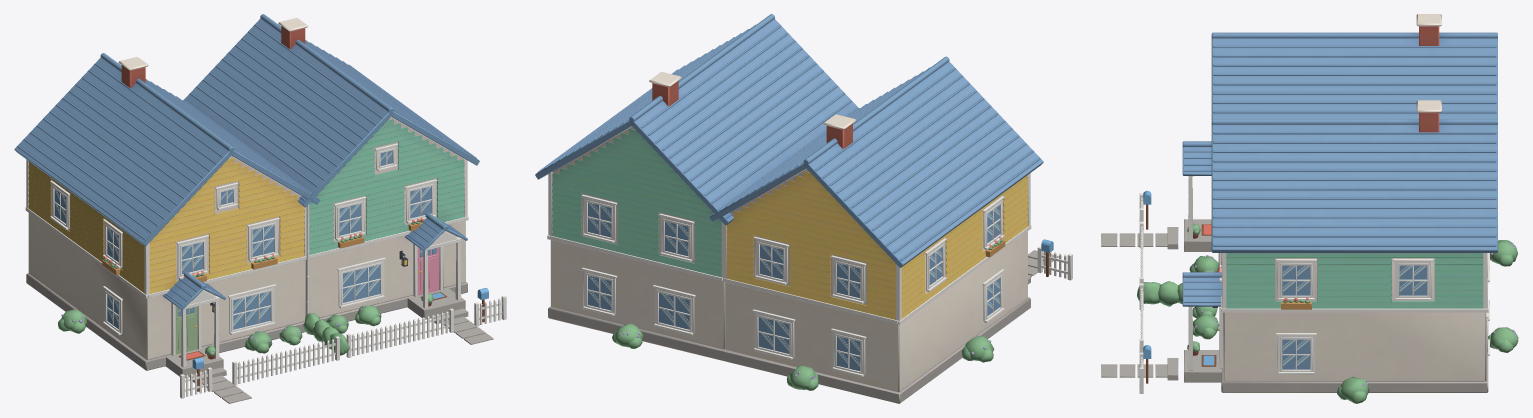
Rendered from duplex-house.glb.
The picture shows the model from 3 angles, left to right: view 1: azimuth 30°, elevation 25°; view 2: azimuth 150°, elevation 25°; view 3: azimuth 270°, elevation 25°; orthographic projection. The views are drawn at different scales.
Parts seen in each view (by area): view 1: duplex-house_body, duplex-house_details, duplex-house_details_fence, duplex-house_plants, duplex-house_glints, duplex-house_frame, duplex-house_door_l, duplex-house_door_r; view 2: duplex-house_body, duplex-house_details, duplex-house_glints, duplex-house_plants; view 3: duplex-house_body, duplex-house_details, duplex-house_plants, duplex-house_glints, duplex-house_details_fence.
Part boxes in pixels (x1=…): duplex-house_body: x1=14, y1=14, x2=479, y2=370; duplex-house_details: x1=25, y1=143, x2=506, y2=403; duplex-house_details_fence: x1=185, y1=298, x2=502, y2=396; duplex-house_plants: x1=58, y1=293, x2=433, y2=356; duplex-house_glints: x1=54, y1=151, x2=430, y2=326; duplex-house_frame: x1=171, y1=244, x2=443, y2=355; duplex-house_door_l: x1=175, y1=306, x2=197, y2=354; duplex-house_door_r: x1=417, y1=247, x2=439, y2=295; duplex-house_body: x1=535, y1=14, x2=1043, y2=403; duplex-house_details: x1=547, y1=172, x2=1072, y2=377; duplex-house_glints: x1=588, y1=202, x2=999, y2=367; duplex-house_plants: x1=612, y1=323, x2=994, y2=390; duplex-house_body: x1=1182, y1=14, x2=1497, y2=392; duplex-house_details: x1=1101, y1=176, x2=1489, y2=393; duplex-house_plants: x1=1137, y1=223, x2=1518, y2=403; duplex-house_glints: x1=1283, y1=265, x2=1426, y2=365; duplex-house_details_fence: x1=1140, y1=197, x2=1143, y2=367.
Bounding box in the file's own units: 16.39 × 9.23 × 14.29.
Materials: 19 (1 with a texture image).
